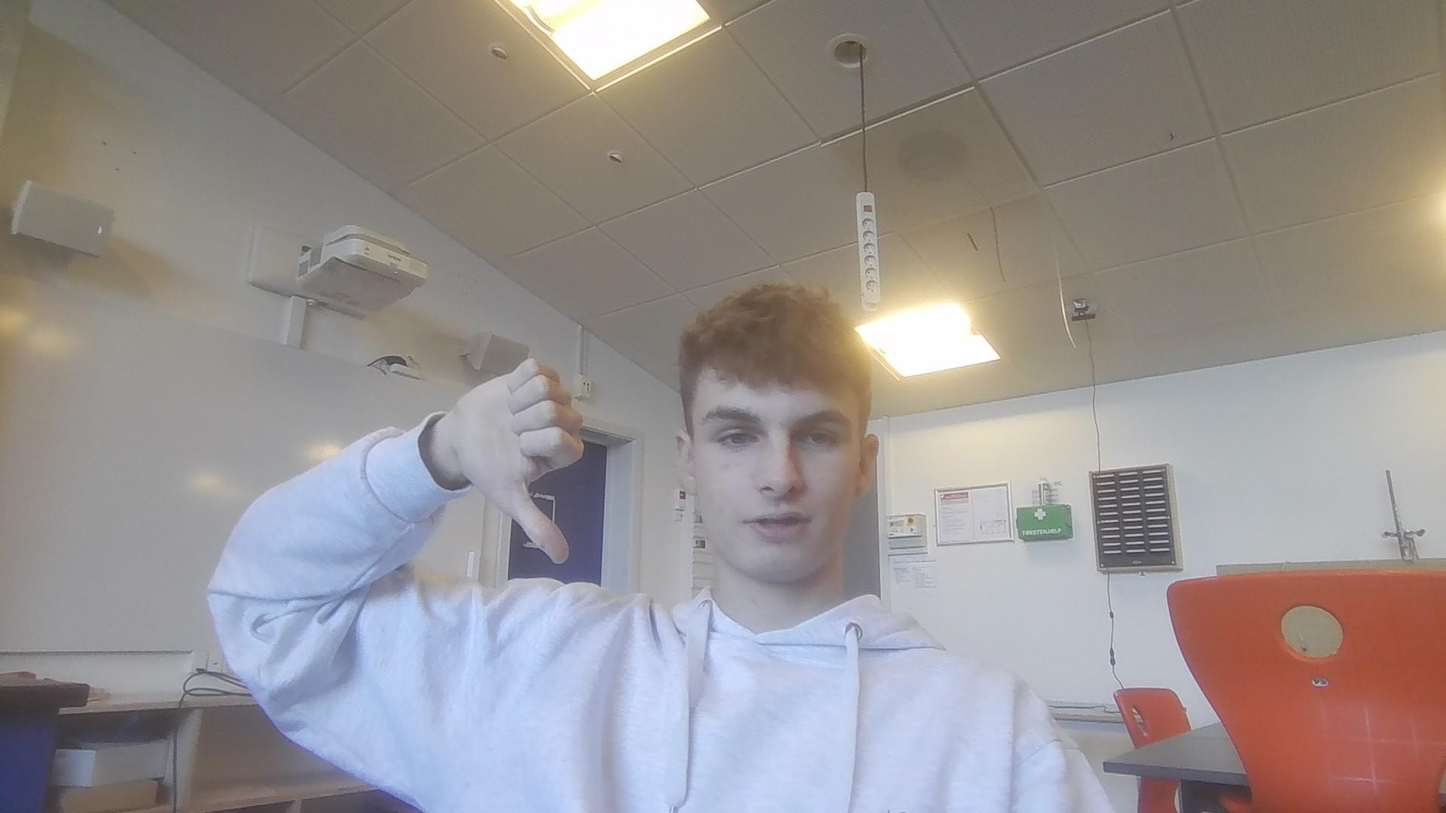thumbs down: (447, 354, 586, 569)
